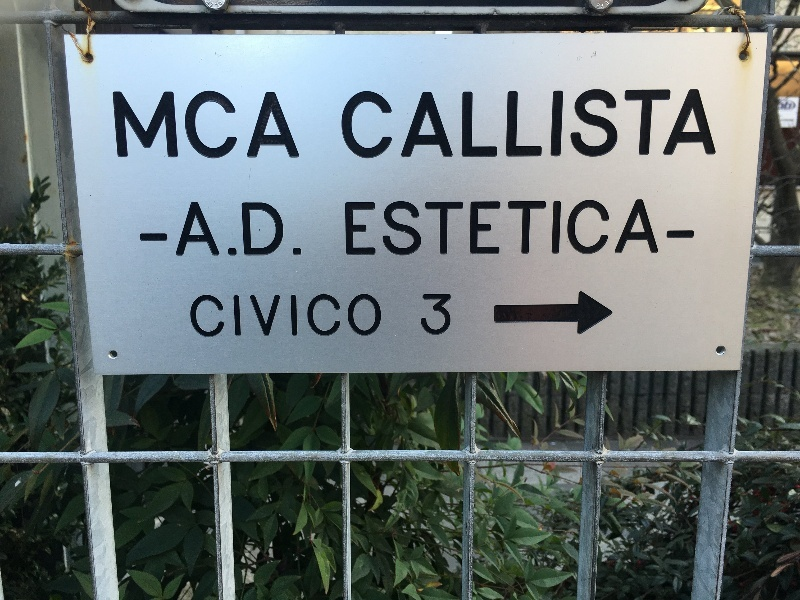text: (353, 89, 368, 159), (369, 89, 384, 159), (385, 89, 400, 159), (401, 89, 416, 159), (417, 89, 432, 159), (433, 89, 448, 159), (449, 89, 464, 159), (465, 89, 480, 159), (481, 89, 496, 159), (497, 89, 512, 159), (513, 89, 528, 159), (529, 89, 544, 159), (545, 89, 560, 159), (561, 89, 576, 159), (577, 89, 592, 159), (593, 89, 608, 159), (609, 89, 624, 159), (625, 89, 640, 159), (641, 89, 656, 159), (657, 89, 672, 159), (673, 89, 688, 159), (689, 89, 704, 159), (113, 91, 128, 159), (129, 91, 144, 159), (145, 91, 160, 159), (161, 91, 176, 159), (177, 91, 192, 159), (193, 91, 208, 159), (209, 91, 224, 159), (225, 91, 240, 159), (241, 91, 256, 159), (257, 91, 272, 159), (273, 91, 288, 159), (705, 89, 718, 159), (289, 91, 302, 159), (340, 89, 352, 159), (353, 200, 368, 256), (369, 200, 384, 256), (385, 200, 400, 256), (401, 200, 416, 256), (417, 200, 432, 256), (433, 200, 448, 256), (449, 200, 464, 256), (465, 200, 480, 256), (481, 200, 496, 256), (497, 200, 512, 256), (513, 200, 528, 256), (529, 200, 544, 256), (545, 200, 560, 256), (561, 200, 576, 256), (577, 200, 592, 256), (593, 200, 608, 256), (609, 200, 624, 256), (625, 200, 640, 256), (641, 200, 656, 256), (193, 202, 208, 257), (209, 202, 224, 257), (225, 202, 240, 257), (241, 202, 256, 257), (257, 202, 272, 257), (273, 202, 288, 257), (289, 202, 302, 257), (193, 295, 208, 338), (209, 295, 224, 338), (225, 295, 240, 338), (241, 295, 256, 338), (257, 295, 272, 338), (273, 295, 288, 338), (289, 295, 304, 338), (305, 295, 320, 338), (321, 295, 336, 338), (337, 295, 352, 338), (353, 295, 368, 338), (433, 293, 448, 336), (369, 295, 381, 338), (421, 293, 432, 336), (346, 200, 352, 256), (145, 233, 160, 242), (673, 231, 688, 239), (657, 200, 659, 256), (190, 202, 192, 257), (449, 293, 451, 336), (111, 91, 112, 159), (161, 233, 168, 242), (689, 231, 695, 239), (191, 295, 192, 338), (667, 231, 672, 239), (140, 233, 144, 242)
